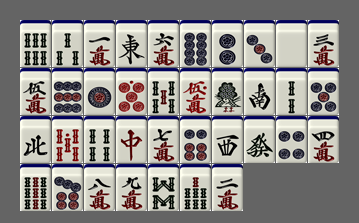0m: (180, 68, 211, 115)
0p: (116, 68, 147, 115)
0s: (52, 116, 83, 163)
1m: (84, 20, 115, 67)
1p: (84, 68, 115, 115)
1s: (212, 68, 243, 115)
1z: (116, 20, 147, 67)
2m: (212, 164, 243, 211)
2p: (212, 20, 243, 67)
2s: (276, 68, 307, 115)
2z: (244, 68, 275, 115)
3m: (308, 20, 339, 67)
3p: (244, 20, 275, 67)
3s: (52, 20, 83, 67)
3z: (212, 116, 243, 163)
4m: (308, 116, 339, 163)
4p: (276, 116, 307, 163)
4s: (84, 116, 115, 163)
4z: (20, 116, 51, 163)
5m: (20, 68, 51, 115)
5p: (308, 68, 339, 115)
5s: (148, 68, 179, 115)
5z: (276, 20, 307, 67)
6m: (148, 20, 179, 67)
6p: (180, 116, 211, 163)
6s: (20, 20, 51, 67)
6z: (244, 116, 275, 163)
7m: (148, 116, 179, 163)
7p: (52, 164, 83, 211)
7s: (180, 164, 211, 211)
7z: (116, 116, 147, 163)
8m: (84, 164, 115, 211)
8p: (180, 20, 211, 67)
8s: (148, 164, 179, 211)
9m: (116, 164, 147, 211)
9p: (52, 68, 83, 115)
9s: (20, 164, 51, 211)
